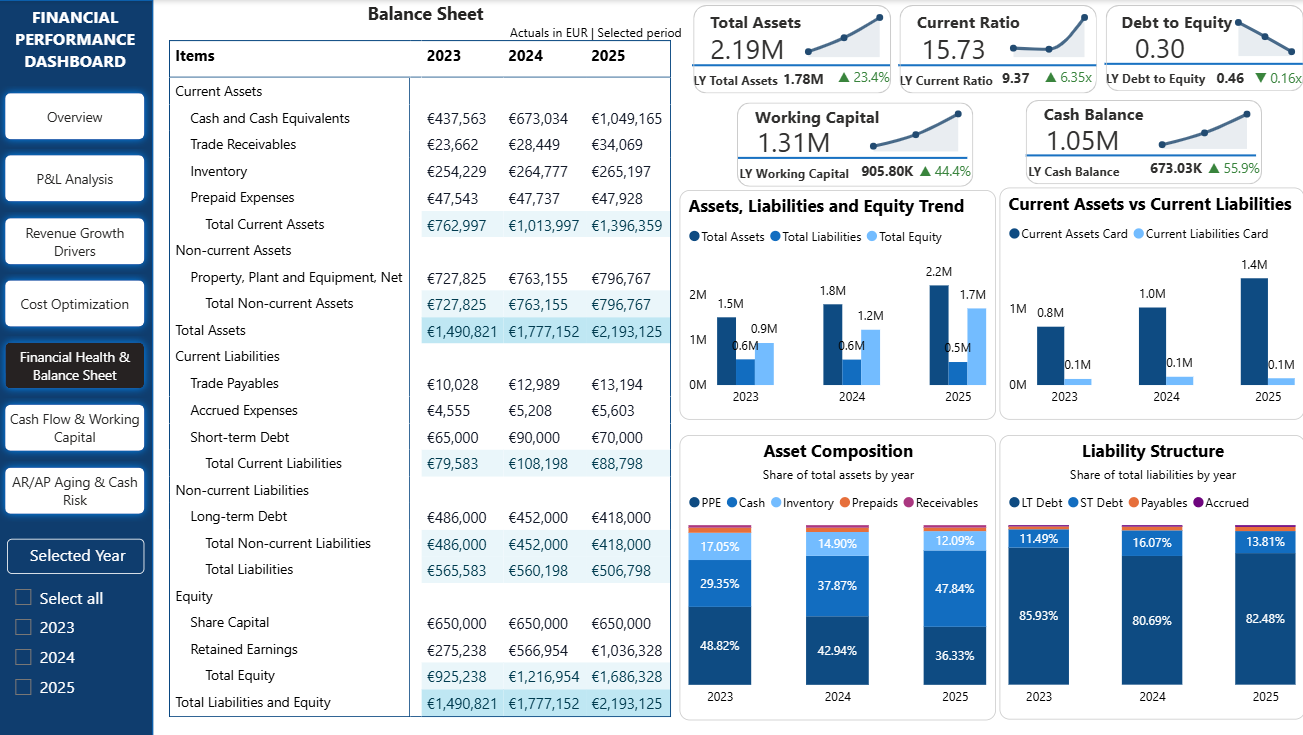

Layout of this report page (visuals, bound fields, positions):
{"tool":"powerbi","page":{"name":" Financial Health & Balance Sheet","canvas":[1280,720],"ordinal":4},"visuals":[{"type":"shape","box":[0,0,152.9,720.2],"z":0,"group":"g6"},{"type":"pivotTable","title":"Balance Sheet","fields":{"Values":["_Measures.BS Display"],"Columns":["Dim_Date.Year"],"Rows":["Template_BS.BS LineItem Display"]},"box":[163.2,0,516.5,720.1],"z":0},{"type":"textbox","box":[0,0,152.9,83.2],"z":1000,"group":"g6"},{"type":"group","id":"g1","title":"Group 8","box":[675,0,201.8,95.4],"z":1000},{"type":"card","fields":{"Values":["_Measures.Debt to Equity"]},"box":[1083.6,31.7,104,30.7],"z":1000,"group":"g9"},{"type":"card","fields":{"Values":["_Measures.Total Assets Card"]},"box":[680.1,32.5,103.9,31.5],"z":1000,"group":"g7"},{"type":"card","fields":{"Values":["_Measures.Current Ratio"]},"box":[881.9,32.5,103.7,31.5],"z":1000,"group":"g8"},{"type":"card","fields":{"Values":["_Measures.Cash Balance Card"]},"box":[1007.9,122.3,104.2,30.6],"z":1000,"group":"g10"},{"type":"card","fields":{"Values":["_Measures.Working Capital"]},"box":[725.4,124.7,104.2,30.6],"z":1000,"group":"g11"},{"type":"group","id":"g2","title":"Group 8","box":[881.7,0,196.9,95.4],"z":2000},{"type":"textbox","box":[1085.7,4.6,168.9,34.4],"z":2000,"group":"g9"},{"type":"textbox","box":[675,4.7,176.1,35.3],"z":2000,"group":"g7"},{"type":"textbox","box":[882.1,4.7,170.8,35.3],"z":2000,"group":"g8"},{"type":"pageNavigator","box":[0,83.2,152.9,431.7],"z":2000,"group":"g6"},{"type":"textbox","box":[1010,95.4,169.1,34.3],"z":2000,"group":"g10"},{"type":"textbox","box":[727.5,97.8,169.1,34.3],"z":2000,"group":"g11"},{"type":"group","id":"g3","title":"Group 8","box":[1083.4,0,196.9,92.9],"z":3000},{"type":"textbox","box":[9.8,527,134.5,34.2],"z":3000,"group":"g6"},{"type":"lineChart","fields":{"Category":["Dim_Date.Year"],"Y":["_Measures.Total Assets Card"]},"box":[778.4,0,94.8,56.1],"z":4000,"group":"g7"},{"type":"lineChart","fields":{"Category":["Dim_Date.Year"],"Y":["_Measures.Current Ratio"]},"box":[980,0,94.6,56.1],"z":4000,"group":"g8"},{"type":"lineChart","fields":{"Category":["Dim_Date.Year"],"Y":["_Measures.Debt to Equity"]},"box":[1199.5,0,77.1,55.1],"z":4000,"group":"g9"},{"type":"lineChart","fields":{"Category":["Dim_Date.Year"],"Y":["_Measures.Cash Balance Card"]},"box":[1125.6,90.5,108,55.5],"z":4000,"group":"g10"},{"type":"group","id":"g4","title":"Group 8","box":[723.9,92.9,231.1,92.9],"z":4000},{"type":"lineChart","fields":{"Category":["Dim_Date.Year"],"Y":["_Measures.Working Capital"]},"box":[843.1,92.9,108,55.5],"z":4000,"group":"g11"},{"type":"slicer","fields":{"Values":["Dim_Date.Year"]},"box":[9.8,569.8,134.5,150.4],"z":4000,"group":"g6"},{"type":"group","id":"g5","title":"Group 8","box":[1006.4,90.5,231.1,92.9],"z":5000},{"type":"textbox","box":[1084.5,62,155.4,31],"z":6000,"group":"g9"},{"type":"textbox","box":[681.2,63.9,113.6,31.5],"z":6000,"group":"g7"},{"type":"textbox","box":[882.9,63.9,113.4,31.5],"z":6000,"group":"g8"},{"type":"textbox","box":[1008.8,152.6,155.7,30.9],"z":6000,"group":"g10"},{"type":"textbox","box":[726.3,155,155.7,30.9],"z":6000,"group":"g11"},{"type":"clusteredColumnChart","title":"Assets, Liabilities and Equity Trend","fields":{"Category":["Dim_Date.Year-Month.Variation.Date Hierarchy.Year","Dim_Date.Year-Month.Variation.Date Hierarchy.Quarter","Dim_Date.Year-Month.Variation.Date Hierarchy.Month"],"Y":["_Measures.Total Assets","_Measures.Total Liabilities","_Measures.Total Equity"]},"box":[667.7,185.9,309.4,225],"z":6000},{"type":"clusteredColumnChart","title":"Current Assets vs Current Liabilities","fields":{"Category":["Dim_Date.Year-Month.Variation.Date Hierarchy.Year","Dim_Date.Year-Month.Variation.Date Hierarchy.Quarter","Dim_Date.Year-Month.Variation.Date Hierarchy.Month"],"Y":["_Measures.Current Assets Card","_Measures.Current Liabilities Card"]},"box":[980.7,183.4,298.4,227.4],"z":7000},{"type":"card","fields":{"Values":["_Measures.LY Debt to Equity"]},"box":[1182.4,62,47.7,25.2],"z":8000,"group":"g9"},{"type":"card","fields":{"Values":["_Measures.LY Total Assets Card"]},"box":[750.9,62.9,75.4,27.3],"z":8000,"group":"g7"},{"type":"card","fields":{"Values":["_Measures.LY Current Ratio"]},"box":[965.1,63.6,63.5,23.6],"z":8000,"group":"g8"},{"type":"card","fields":{"Values":["_Measures.LY Cash Balance Card"]},"box":[1120.8,145.7,63.6,35.5],"z":8000,"group":"g10"},{"type":"card","fields":{"Values":["_Measures.LY Working Capital"]},"box":[838.3,148.1,63.6,35.5],"z":8000,"group":"g11"},{"type":"hundredPercentStackedColumnChart","title":"Asset Composition","fields":{"Category":["Dim_Date.Year-Month.Variation.Date Hierarchy.Year","Dim_Date.Year-Month.Variation.Date Hierarchy.Quarter","Dim_Date.Year-Month.Variation.Date Hierarchy.Month"],"Y":["_Measures.Property Plant Equipment Net","_Measures.Cash and Cash Equivalents","_Measures.Inventory","_Measures.Prepaid Expenses","_Measures.Trade Receivables"]},"box":[667.7,425.5,309.4,278.8],"z":8000},{"type":"card","fields":{"Values":["_Measures.Total Assets YoY Display"]},"box":[814.4,67.1,62.4,20],"z":9000,"group":"g1"},{"type":"card","fields":{"Values":["_Measures.Current Ratio YoY Display"]},"box":[1012.7,67.1,65.9,20],"z":9000,"group":"g2"},{"type":"card","fields":{"Values":["_Measures.Debt to Equity YoY Display"]},"box":[1221.5,68.8,58.7,16.1],"z":9000,"group":"g3"},{"type":"card","fields":{"Values":["_Measures.Cash Balance YoY Display"]},"box":[1177,158,59.9,18.3],"z":9000,"group":"g5"},{"type":"card","fields":{"Values":["_Measures.Working Capital YoY Display"]},"box":[894.5,160.4,59.9,18.3],"z":9000,"group":"g4"},{"type":"hundredPercentStackedColumnChart","title":"Liability Structure","fields":{"Category":["Dim_Date.Year-Month.Variation.Date Hierarchy.Year","Dim_Date.Year-Month.Variation.Date Hierarchy.Quarter","Dim_Date.Year-Month.Variation.Date Hierarchy.Month"],"Y":["_Measures.Long-term Debt","_Measures.Short-term Debt","_Measures.Trade Payables","_Measures.Accrued Expenses"]},"box":[981,425.2,299,278.6],"z":9000},{"type":"group","id":"g6","title":"Group 1","box":[0,0,152.9,720.2],"z":10000},{"type":"shape","box":[1083.4,55.8,194.6,12.4],"z":10000,"group":"g9"},{"type":"shape","box":[679.9,57.3,194.4,12.7],"z":10000,"group":"g7"},{"type":"shape","box":[881.7,57.3,194,12.7],"z":10000,"group":"g8"},{"type":"shape","box":[1007,145.5,225.3,13],"z":10000,"group":"g10"},{"type":"shape","box":[724.5,147.9,225.3,13],"z":10000,"group":"g11"},{"type":"shape","box":[1084.4,4.9,193.7,84.4],"z":11000,"group":"g9"},{"type":"shape","box":[680.9,5.1,193.6,86.6],"z":11000,"group":"g7"},{"type":"shape","box":[882.7,5.1,193.2,86.6],"z":11000,"group":"g8"},{"type":"shape","box":[1006.4,97.8,231.1,82.5],"z":11000,"group":"g10"},{"type":"shape","box":[723.9,100.2,231.1,82.5],"z":11000,"group":"g11"},{"type":"group","id":"g7","title":"Group 3","box":[675,0,199.5,95.4],"z":11004,"group":"g1"},{"type":"group","id":"g8","title":"Group 3","box":[881.7,0,194.2,95.4],"z":11004,"group":"g2"},{"type":"group","id":"g9","title":"Group 3","box":[1083.4,0,194.8,92.9],"z":11004,"group":"g3"},{"type":"group","id":"g10","title":"Group 3","box":[1006.4,90.5,231.1,92.9],"z":11004,"group":"g5"},{"type":"group","id":"g11","title":"Group 3","box":[723.9,92.9,231.1,92.9],"z":11004,"group":"g4"}]}

Visuals, with their boxes in screenshot pixels (x1, y1, x2, y2), scaled from the page's 1280x720 canvas onto the 1303x735 screenshot:
shape: {"x1": 0, "y1": 0, "x2": 156, "y2": 734}
"Balance Sheet" pivotTable: {"x1": 166, "y1": 0, "x2": 692, "y2": 734}
textbox: {"x1": 0, "y1": 0, "x2": 156, "y2": 85}
"Group 8" group: {"x1": 687, "y1": 0, "x2": 893, "y2": 97}
card - _Measures.Debt to Equity: {"x1": 1103, "y1": 32, "x2": 1209, "y2": 64}
card - _Measures.Total Assets Card: {"x1": 692, "y1": 33, "x2": 798, "y2": 65}
card - _Measures.Current Ratio: {"x1": 898, "y1": 33, "x2": 1003, "y2": 65}
card - _Measures.Cash Balance Card: {"x1": 1026, "y1": 125, "x2": 1132, "y2": 156}
card - _Measures.Working Capital: {"x1": 738, "y1": 127, "x2": 845, "y2": 159}
"Group 8" group: {"x1": 898, "y1": 0, "x2": 1098, "y2": 97}
textbox: {"x1": 1105, "y1": 5, "x2": 1277, "y2": 40}
textbox: {"x1": 687, "y1": 5, "x2": 866, "y2": 41}
textbox: {"x1": 898, "y1": 5, "x2": 1072, "y2": 41}
pageNavigator: {"x1": 0, "y1": 85, "x2": 156, "y2": 526}
textbox: {"x1": 1028, "y1": 97, "x2": 1200, "y2": 132}
textbox: {"x1": 741, "y1": 100, "x2": 913, "y2": 135}
"Group 8" group: {"x1": 1103, "y1": 0, "x2": 1302, "y2": 95}
textbox: {"x1": 10, "y1": 538, "x2": 147, "y2": 573}
lineChart - Dim_Date.Year x _Measures.Total Assets Card: {"x1": 792, "y1": 0, "x2": 889, "y2": 57}
lineChart - Dim_Date.Year x _Measures.Current Ratio: {"x1": 998, "y1": 0, "x2": 1094, "y2": 57}
lineChart - Dim_Date.Year x _Measures.Debt to Equity: {"x1": 1221, "y1": 0, "x2": 1300, "y2": 56}
lineChart - Dim_Date.Year x _Measures.Cash Balance Card: {"x1": 1146, "y1": 92, "x2": 1256, "y2": 149}
"Group 8" group: {"x1": 737, "y1": 95, "x2": 972, "y2": 190}
lineChart - Dim_Date.Year x _Measures.Working Capital: {"x1": 858, "y1": 95, "x2": 968, "y2": 151}
slicer - Dim_Date.Year: {"x1": 10, "y1": 582, "x2": 147, "y2": 734}
"Group 8" group: {"x1": 1024, "y1": 92, "x2": 1260, "y2": 187}
textbox: {"x1": 1104, "y1": 63, "x2": 1262, "y2": 95}
textbox: {"x1": 693, "y1": 65, "x2": 809, "y2": 97}
textbox: {"x1": 899, "y1": 65, "x2": 1014, "y2": 97}
textbox: {"x1": 1027, "y1": 156, "x2": 1185, "y2": 187}
textbox: {"x1": 739, "y1": 158, "x2": 898, "y2": 190}
"Assets, Liabilities and Equity Trend" clusteredColumnChart: {"x1": 680, "y1": 190, "x2": 995, "y2": 419}
"Current Assets vs Current Liabilities" clusteredColumnChart: {"x1": 998, "y1": 187, "x2": 1302, "y2": 419}
card - _Measures.LY Debt to Equity: {"x1": 1204, "y1": 63, "x2": 1252, "y2": 89}
card - _Measures.LY Total Assets Card: {"x1": 764, "y1": 64, "x2": 841, "y2": 92}
card - _Measures.LY Current Ratio: {"x1": 982, "y1": 65, "x2": 1047, "y2": 89}
card - _Measures.LY Cash Balance Card: {"x1": 1141, "y1": 149, "x2": 1206, "y2": 185}
card - _Measures.LY Working Capital: {"x1": 853, "y1": 151, "x2": 918, "y2": 187}
"Asset Composition" hundredPercentStackedColumnChart: {"x1": 680, "y1": 434, "x2": 995, "y2": 719}
card - _Measures.Total Assets YoY Display: {"x1": 829, "y1": 68, "x2": 893, "y2": 89}
card - _Measures.Current Ratio YoY Display: {"x1": 1031, "y1": 68, "x2": 1098, "y2": 89}
card - _Measures.Debt to Equity YoY Display: {"x1": 1243, "y1": 70, "x2": 1302, "y2": 87}
card - _Measures.Cash Balance YoY Display: {"x1": 1198, "y1": 161, "x2": 1259, "y2": 180}
card - _Measures.Working Capital YoY Display: {"x1": 911, "y1": 164, "x2": 972, "y2": 182}
"Liability Structure" hundredPercentStackedColumnChart: {"x1": 999, "y1": 434, "x2": 1302, "y2": 718}
"Group 1" group: {"x1": 0, "y1": 0, "x2": 156, "y2": 734}
shape: {"x1": 1103, "y1": 57, "x2": 1301, "y2": 70}
shape: {"x1": 692, "y1": 58, "x2": 890, "y2": 71}
shape: {"x1": 898, "y1": 58, "x2": 1095, "y2": 71}
shape: {"x1": 1025, "y1": 149, "x2": 1254, "y2": 162}
shape: {"x1": 738, "y1": 151, "x2": 967, "y2": 164}
shape: {"x1": 1104, "y1": 5, "x2": 1301, "y2": 91}
shape: {"x1": 693, "y1": 5, "x2": 890, "y2": 94}
shape: {"x1": 899, "y1": 5, "x2": 1095, "y2": 94}
shape: {"x1": 1024, "y1": 100, "x2": 1260, "y2": 184}
shape: {"x1": 737, "y1": 102, "x2": 972, "y2": 187}
"Group 3" group: {"x1": 687, "y1": 0, "x2": 890, "y2": 97}
"Group 3" group: {"x1": 898, "y1": 0, "x2": 1095, "y2": 97}
"Group 3" group: {"x1": 1103, "y1": 0, "x2": 1301, "y2": 95}
"Group 3" group: {"x1": 1024, "y1": 92, "x2": 1260, "y2": 187}
"Group 3" group: {"x1": 737, "y1": 95, "x2": 972, "y2": 190}
